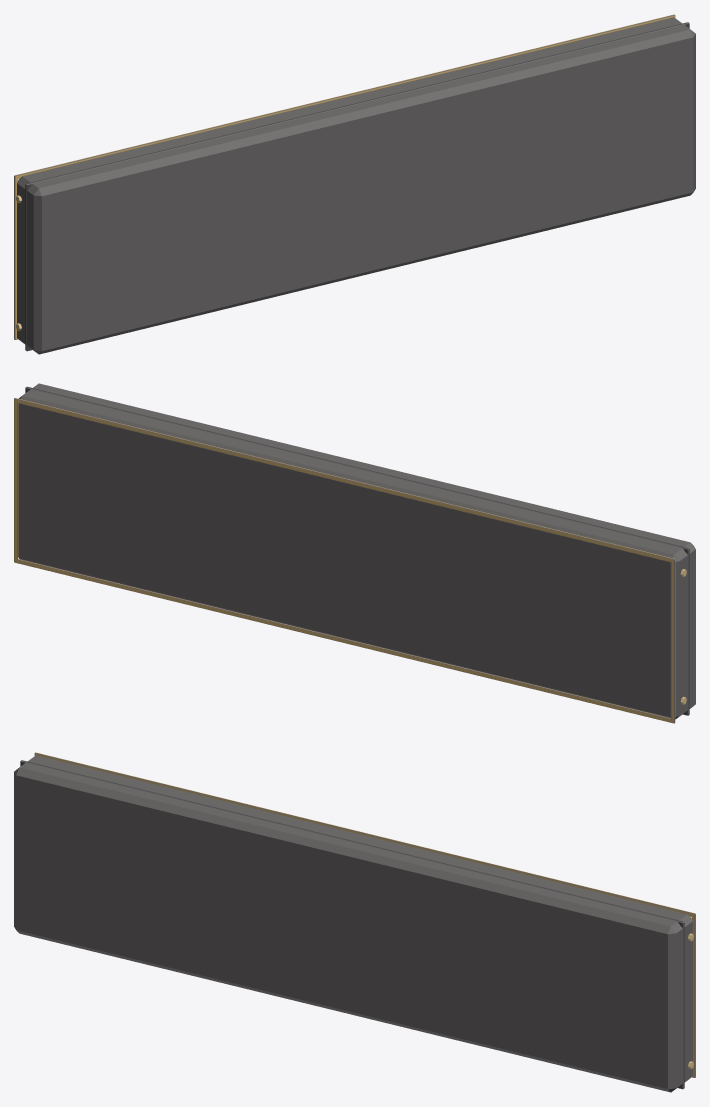
The model's file is Housing_4x1.fbx.
3 views of the same model, one above another, from view 1: azimuth 30°, elevation 25°; view 2: azimuth 150°, elevation 25°; view 3: azimuth 330°, elevation 25° (orthographic).
Parts seen in each view (by area): view 1: Housing_4x1; view 2: Housing_4x1; view 3: Housing_4x1.
Boxes of the visible parts, x1=… form: Housing_4x1: x1=14, y1=14, x2=695, y2=354; Housing_4x1: x1=14, y1=383, x2=695, y2=723; Housing_4x1: x1=14, y1=752, x2=695, y2=1092.
Bounding box in the file's own units: 4.37 × 1.05 × 0.27.
